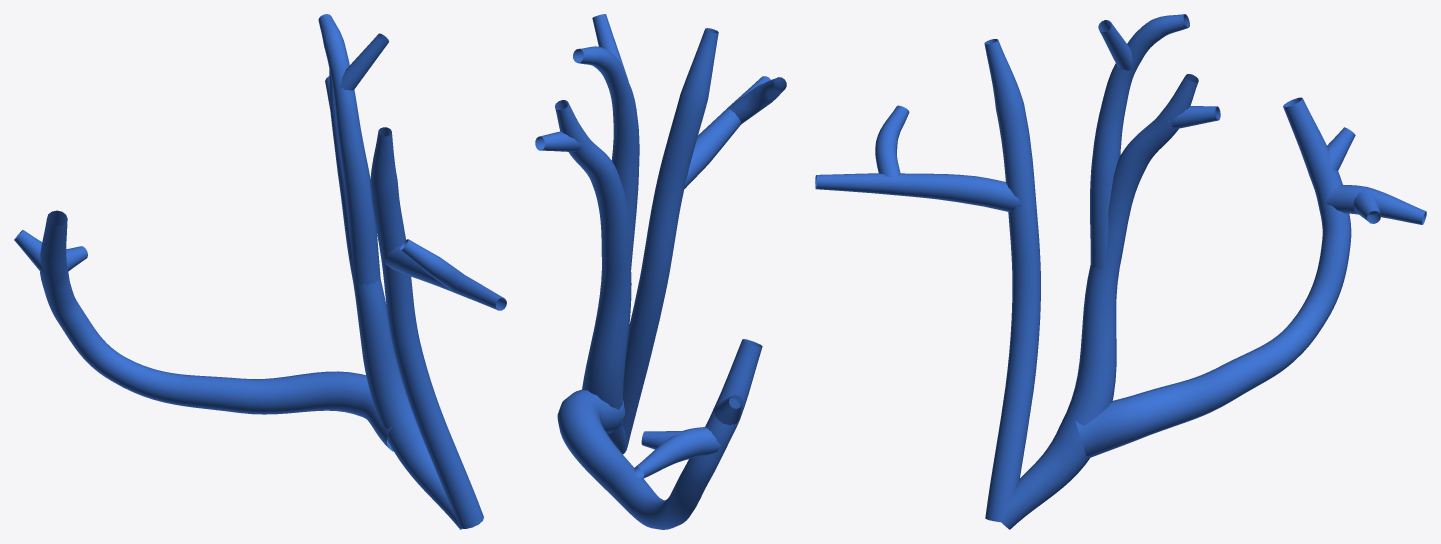
Rendered from circulatorio-apical-segmental-artery-of-right-lung.glb.
3 views of the same model, side by side, from view 1: azimuth 30°, elevation 25°; view 2: azimuth 150°, elevation 25°; view 3: azimuth 270°, elevation 25° (orthographic). The views are drawn at different scales.
Parts seen in each view (by area): view 1: Apical segmental artery of right lung; view 2: Apical segmental artery of right lung; view 3: Apical segmental artery of right lung.
Part boxes in pixels (bbox=[...]): Apical segmental artery of right lung: bbox=[14, 14, 506, 529]; Apical segmental artery of right lung: bbox=[535, 14, 786, 529]; Apical segmental artery of right lung: bbox=[815, 14, 1426, 529].
Size of the model in its own units: 0.0504 by 0.0749 by 0.085.
